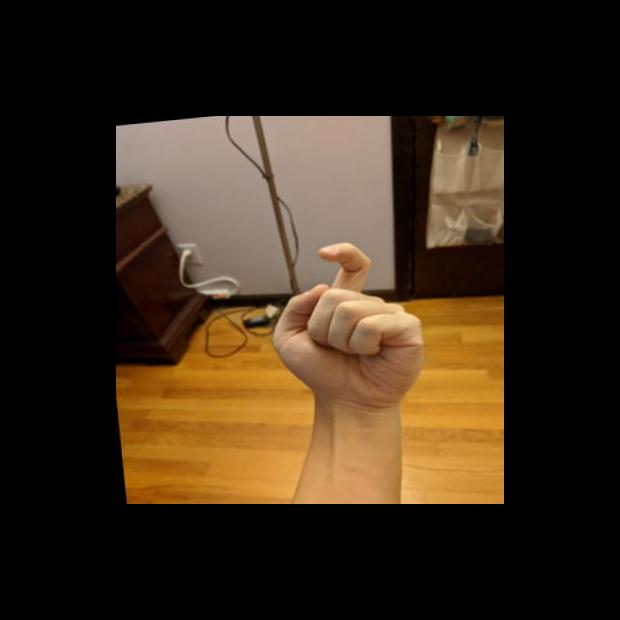W: (255, 234, 434, 424)
